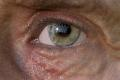eye: (50, 23, 78, 46)
